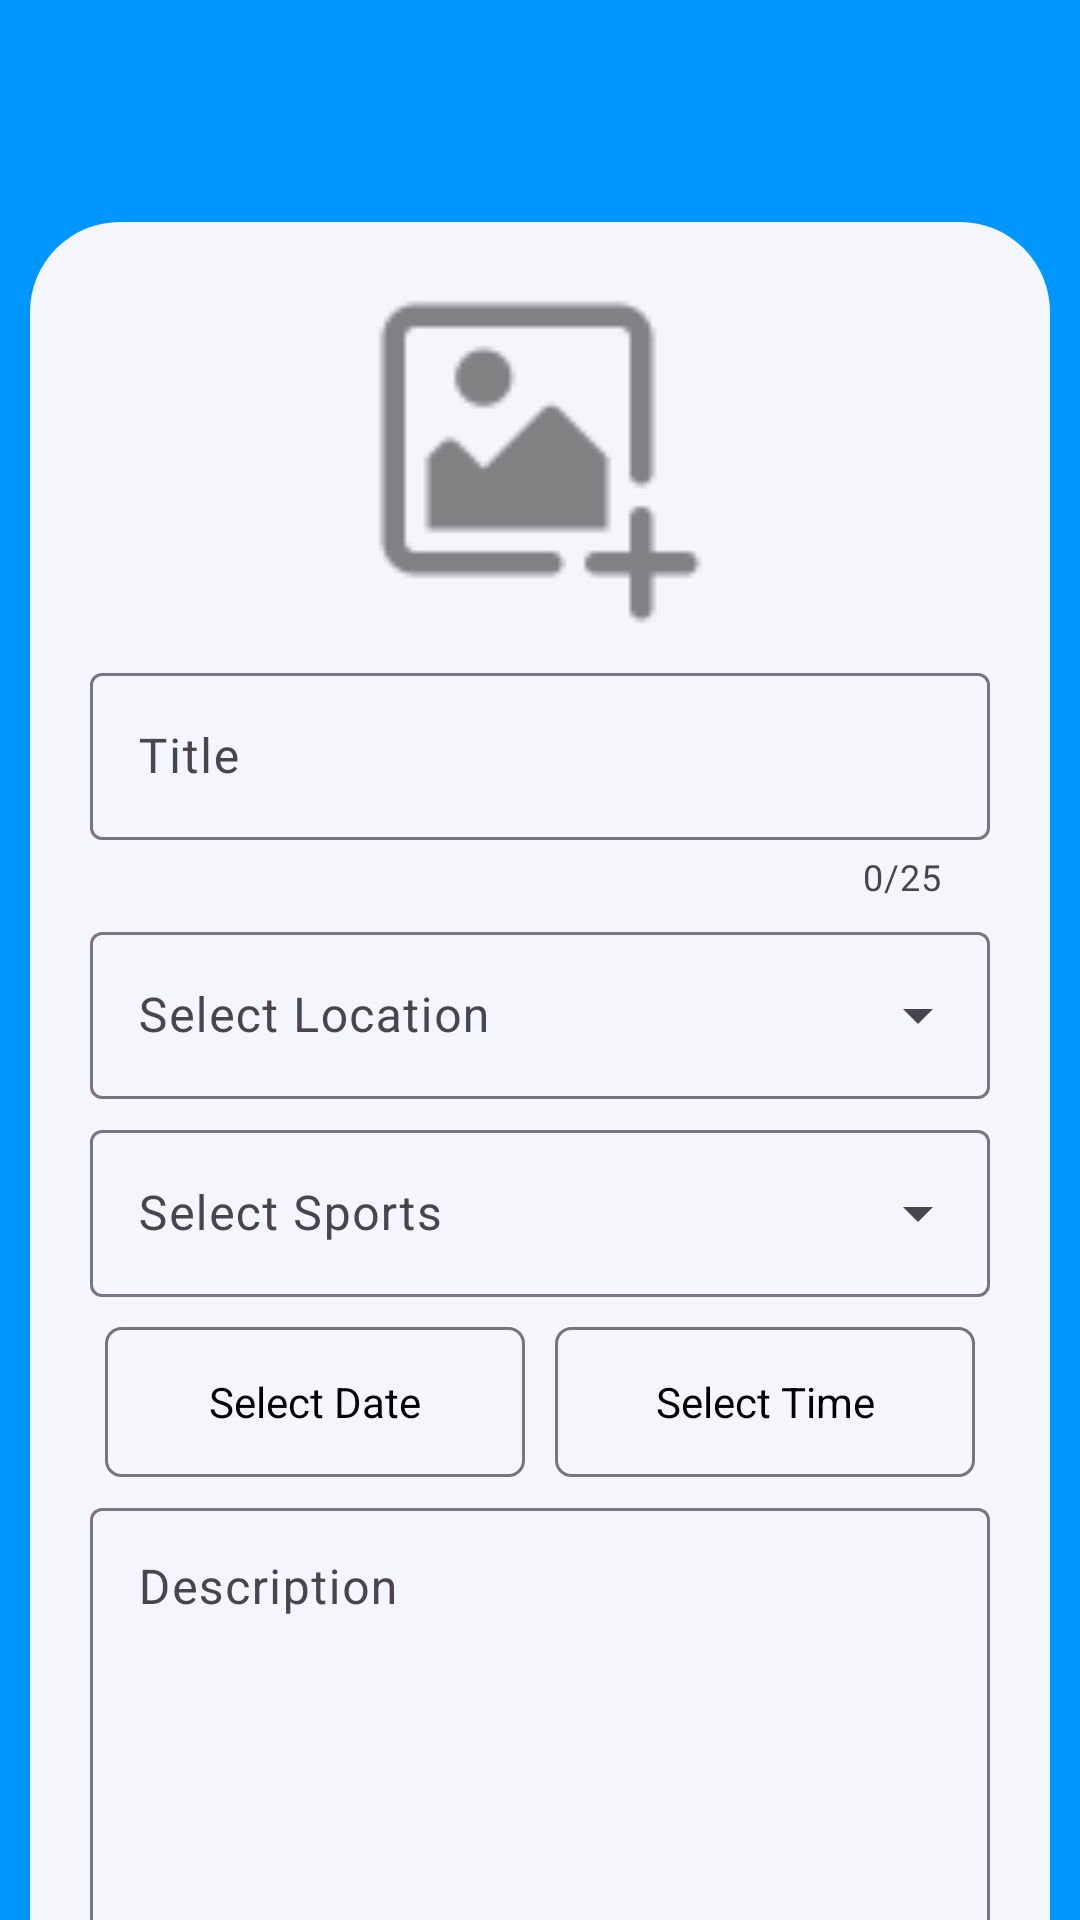

Point at icon controls on the screen. Image size 1080*1920, points as point (x, y).
add: point (540, 462)
